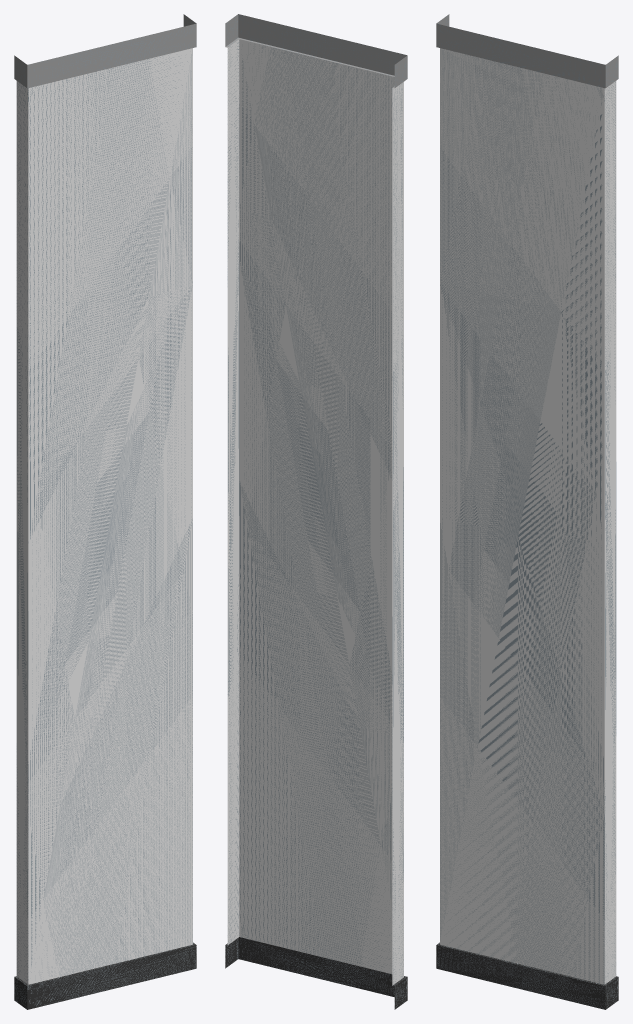
The model's file is Column_os_plinth_075x010x4.dae.
3 renders of one model, left to right at view 1: azimuth 30°, elevation 25°; view 2: azimuth 150°, elevation 25°; view 3: azimuth 330°, elevation 25°, orthographic.
Parts seen in each view (by area): view 1: group_0 (×3); view 2: group_0 (×3); view 3: group_0 (×3).
Part boxes in pixels (box(x1,y1,x2,y2)): group_0 (×3): box(14, 14, 196, 1009); group_0 (×3): box(225, 14, 407, 1009); group_0 (×3): box(436, 14, 618, 1009).
Size of the model in its own units: 29.53 by 3.94 by 157.
